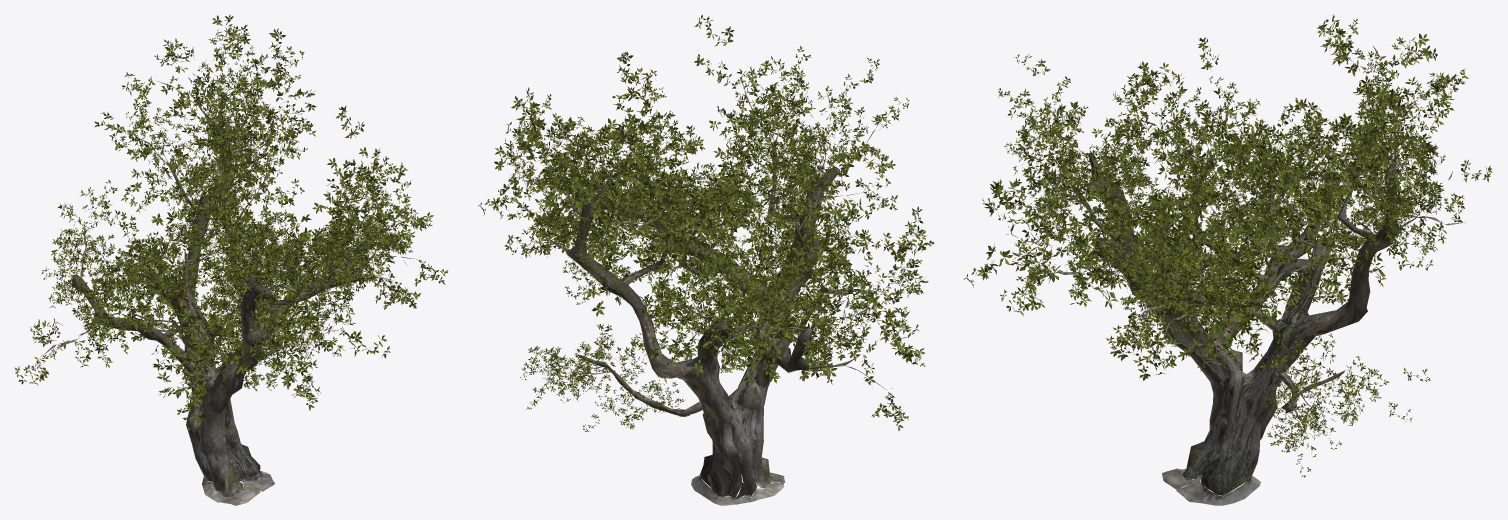
Rendered from island_tree_01.glb.
The picture shows the model from 3 angles, left to right: view 1: azimuth 30°, elevation 25°; view 2: azimuth 150°, elevation 25°; view 3: azimuth 270°, elevation 25°; orthographic projection. The views are drawn at different scales.
Visible parts, largest first — view 1: island_tree_01_LOD0; view 2: island_tree_01_LOD0; view 3: island_tree_01_LOD0.
Part boxes in pixels (left/top/right/bottom): island_tree_01_LOD0: left=14, top=14, right=448, bottom=505; island_tree_01_LOD0: left=478, top=15, right=934, bottom=505; island_tree_01_LOD0: left=964, top=14, right=1492, bottom=505.
Size of the model in its own units: 4.76 by 5.03 by 4.82.
3 materials, 3 textured.
